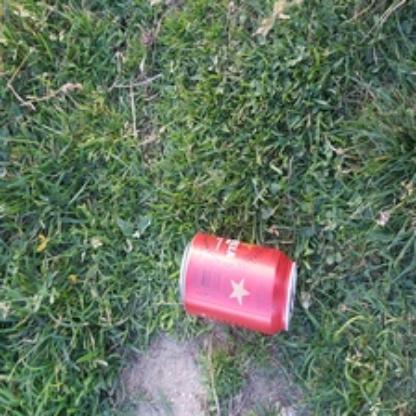Can: (177, 233, 297, 333)
